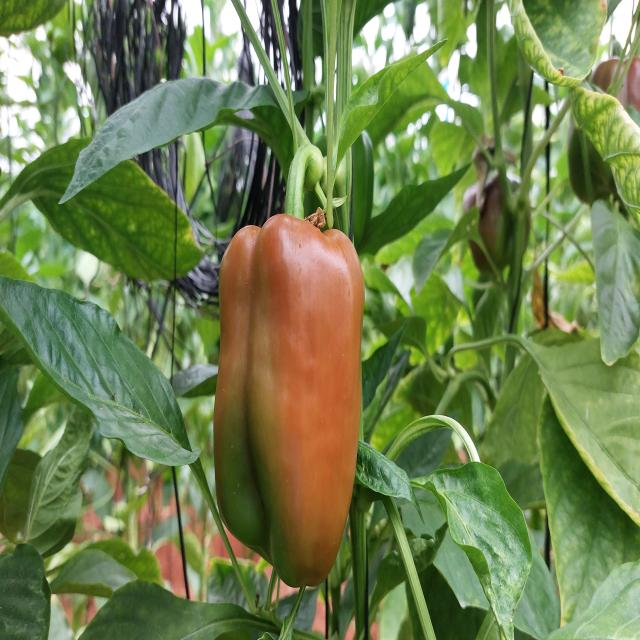BrownishRed--Can-be-Harvested: (220, 211, 364, 607)
